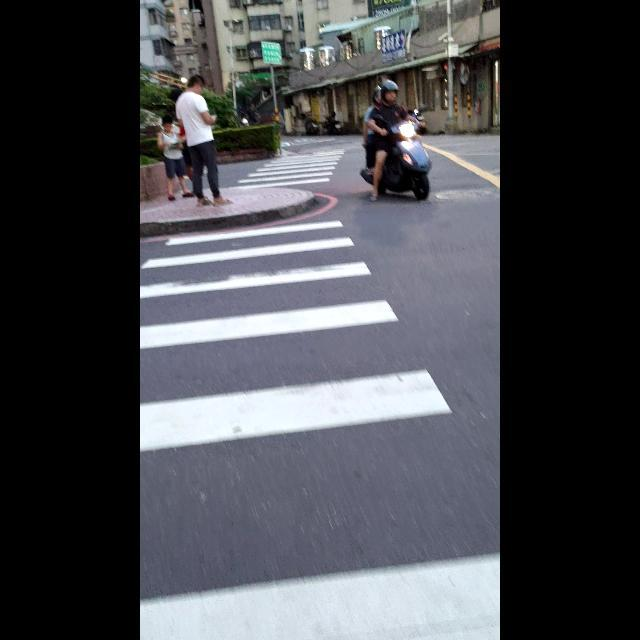sidewalk: (140, 218, 498, 640), (237, 151, 343, 183)
